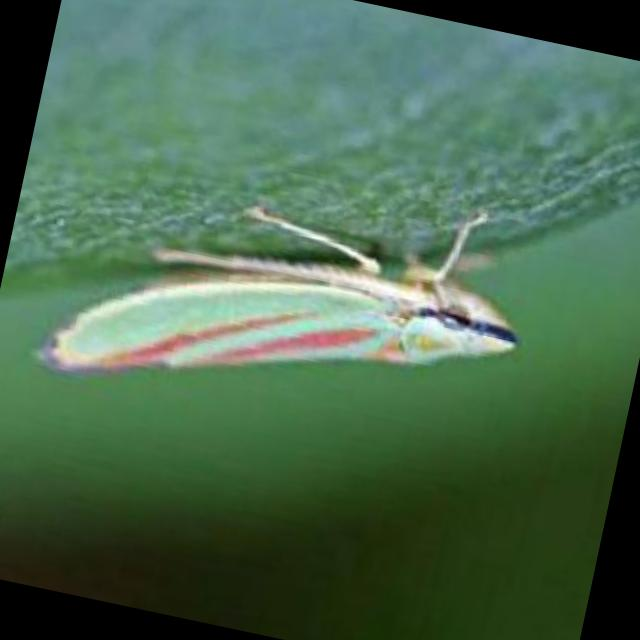green-leafhopper: (43, 186, 530, 471)
